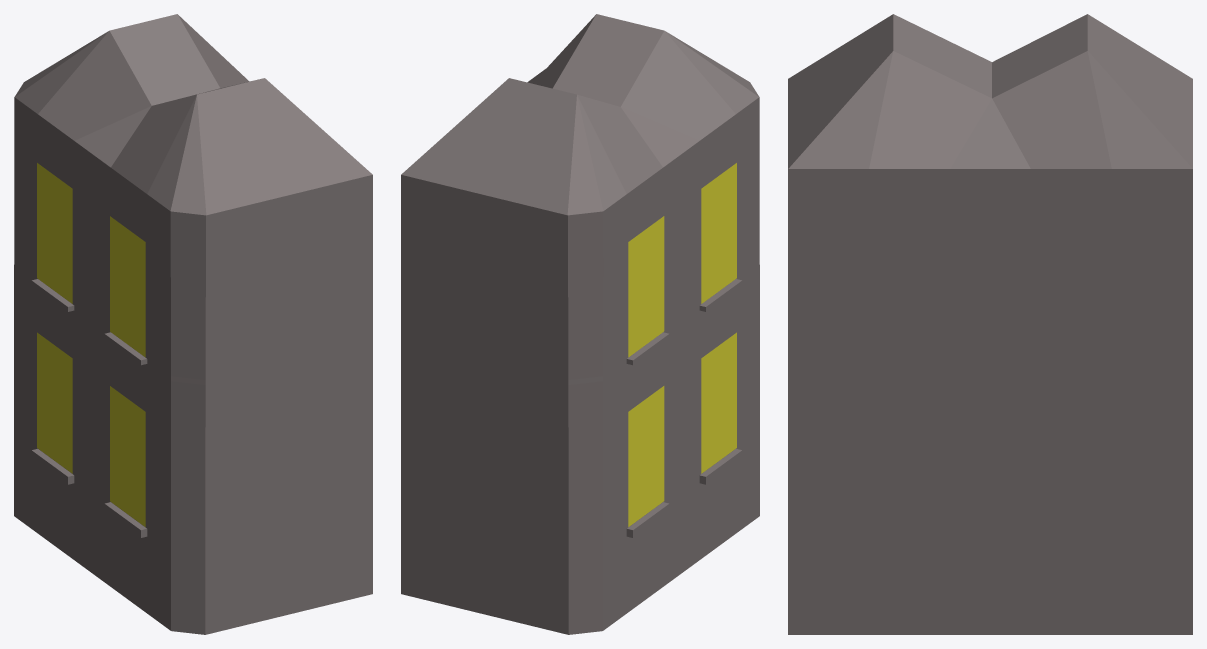
Rendered from haus4.fbx.
3 renders of one model, left to right at view 1: azimuth 30°, elevation 25°; view 2: azimuth 150°, elevation 25°; view 3: azimuth 270°, elevation 25°, orthographic. The views are drawn at different scales.
Parts seen in each view (by area): view 1: Haus, window4, window1, window2, window3; view 2: Haus, window2, window4, window3, window1; view 3: Haus.
Part boxes in pixels (x1=…): Haus: x1=14, y1=14, x2=372, y2=634; window4: x1=37, y1=163, x2=72, y2=303; window1: x1=110, y1=386, x2=145, y2=526; window2: x1=37, y1=332, x2=72, y2=473; window3: x1=110, y1=216, x2=145, y2=357; Haus: x1=401, y1=14, x2=759, y2=634; window2: x1=628, y1=386, x2=664, y2=526; window4: x1=628, y1=216, x2=664, y2=357; window3: x1=701, y1=163, x2=736, y2=303; window1: x1=701, y1=332, x2=736, y2=473; Haus: x1=788, y1=14, x2=1192, y2=634.
Size of the model in its own units: 310 by 751 by 500.
